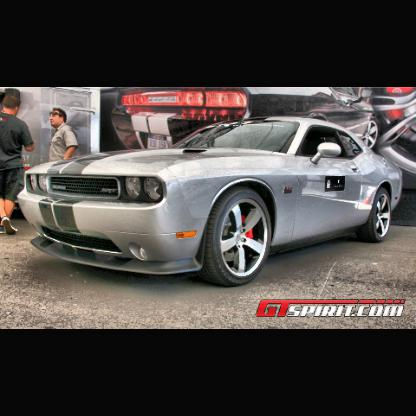Dodge Challenger SRT8 2011: (21, 115, 405, 287)
